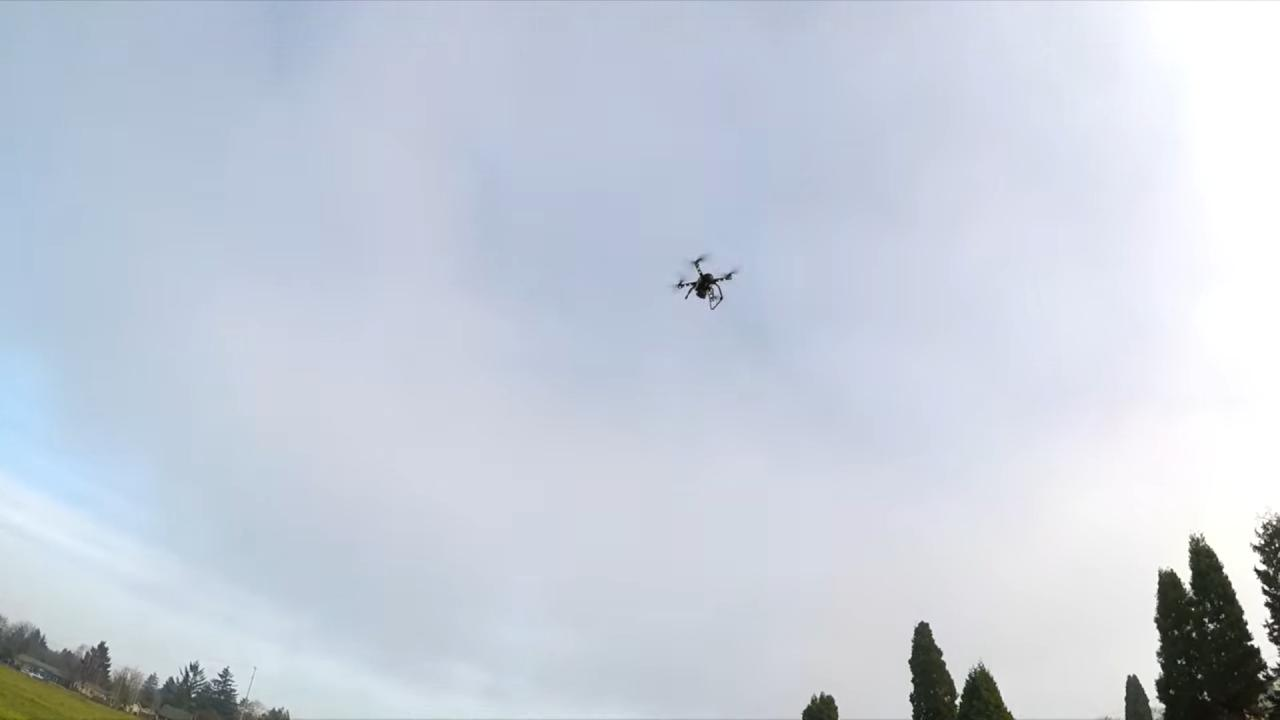Drone: (666, 247, 746, 320)
